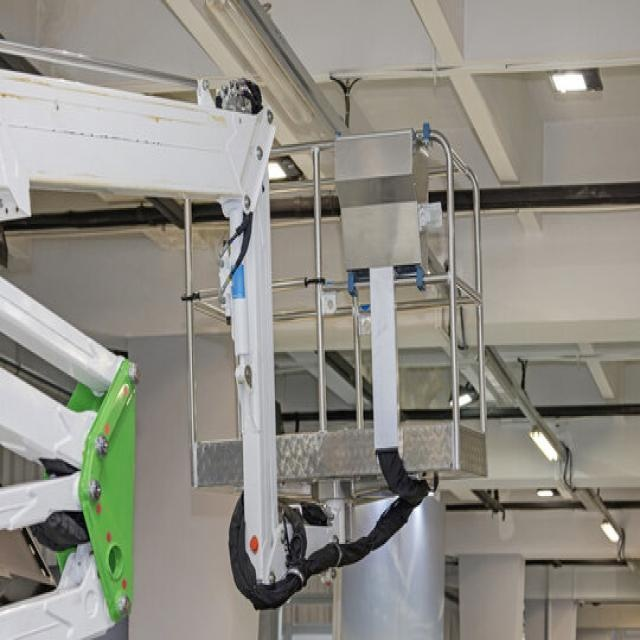Arnes_seguridad: (227, 443, 430, 611)
